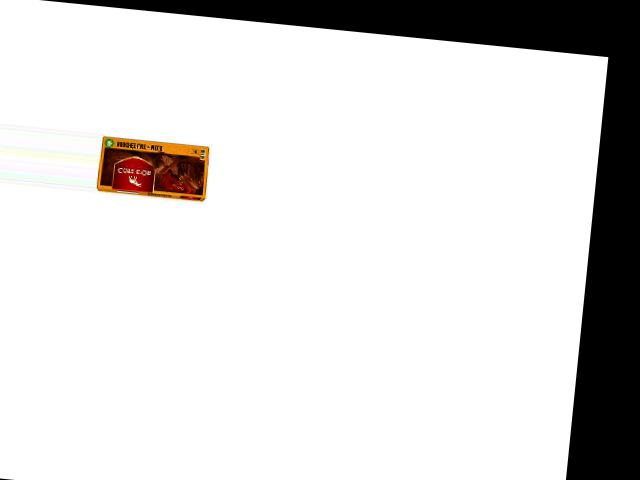chocolate: (96, 126, 213, 204)
